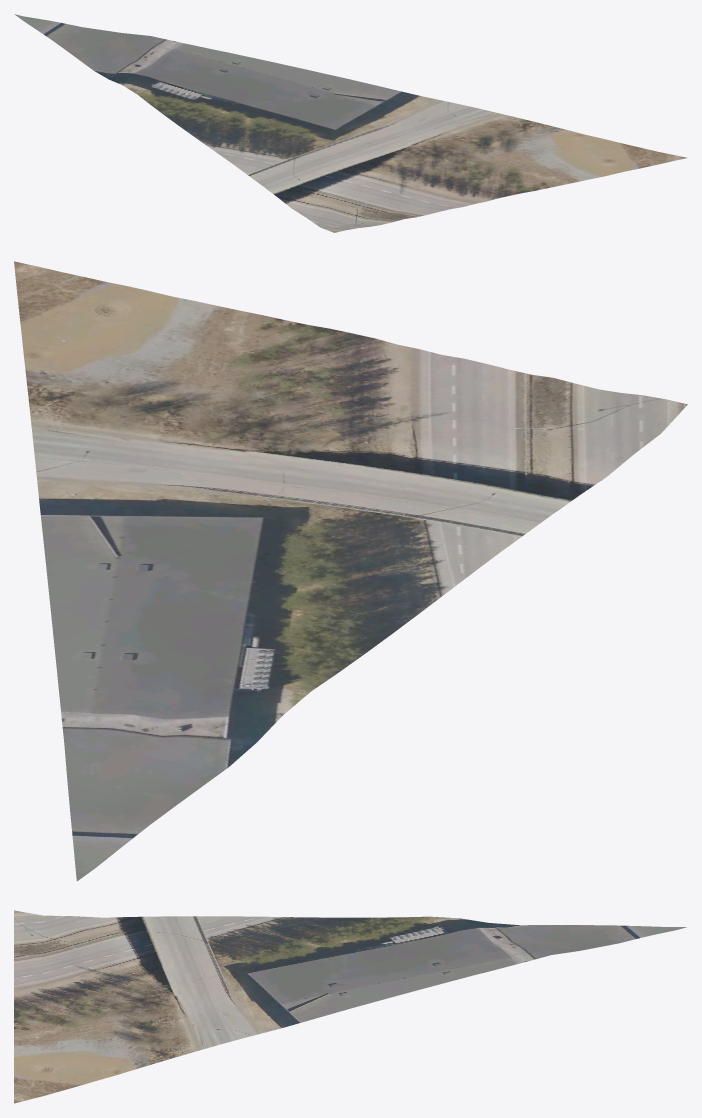
The model's file is CM_Terrain_24492916_6818156.fbx.
3 views of the same model, one above another, from view 1: azimuth 30°, elevation 25°; view 2: azimuth 150°, elevation 25°; view 3: azimuth 270°, elevation 25° (orthographic). The views are drawn at different scales.
Parts seen in each view (by area): view 1: CM_Terrain_24492916_6818156_LOD0; view 2: CM_Terrain_24492916_6818156_LOD0; view 3: CM_Terrain_24492916_6818156_LOD0.
Boxes of the visible parts, box(x1,y1,x2,y2) form: CM_Terrain_24492916_6818156_LOD0: box(14, 14, 687, 232); CM_Terrain_24492916_6818156_LOD0: box(14, 261, 687, 881); CM_Terrain_24492916_6818156_LOD0: box(14, 910, 686, 1103).
Size of what is drawn, in the model's own units: 108 by 4.66 by 170.
